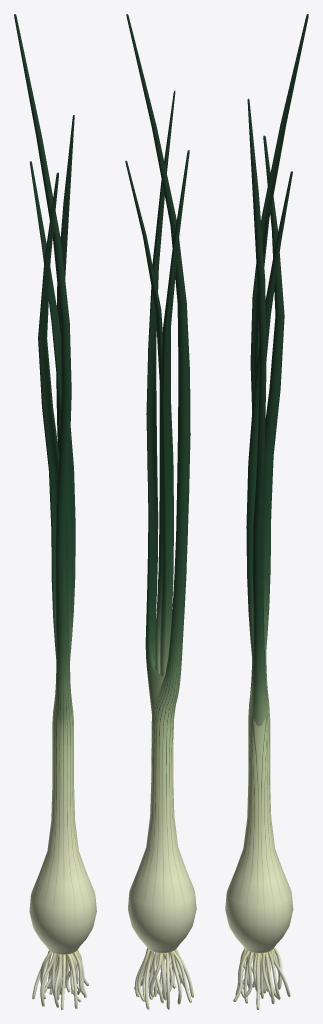
The model's file is SpringOnion.fbx.
3 views of the same model, side by side, from view 1: azimuth 90°, elevation 25°; view 2: azimuth 150°, elevation 25°; view 3: azimuth 270°, elevation 25° (orthographic). The views are drawn at different scales.
Parts seen in each view (by area): view 1: Onion_green_01; view 2: Onion_green_01; view 3: Onion_green_01.
Boxes of the visible parts, left/top/right/bottom form: Onion_green_01: left=14, top=14, right=96, bottom=1009; Onion_green_01: left=125, top=14, right=196, bottom=1009; Onion_green_01: left=225, top=14, right=308, bottom=1009.
Bounding box in the file's own units: 21.04 × 336 × 25.73.
1 material, 1 textured.
